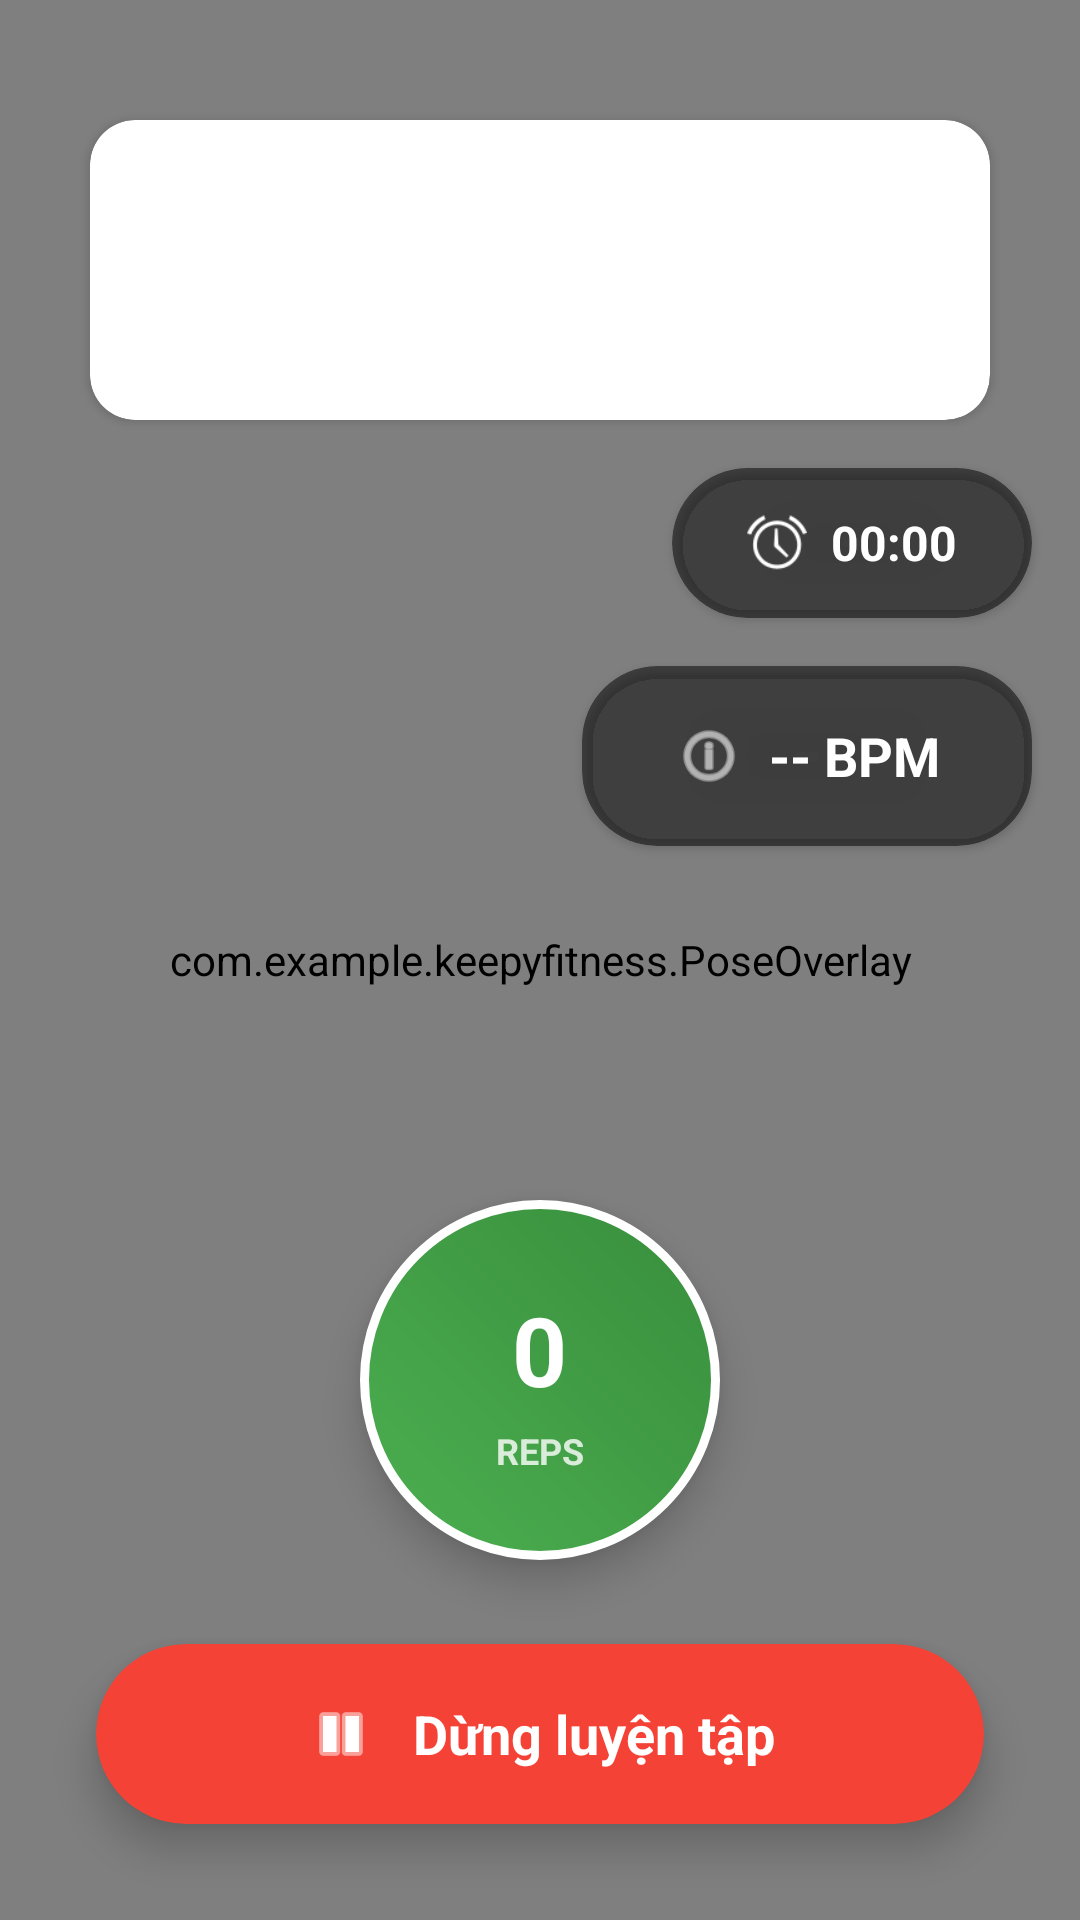

Named icons in this screenshot (1080 × 1920) and their bounding boxes, region(x1, y1, x2, y2):
info details: region(683, 730, 735, 782)
lock idle alarm: region(747, 515, 807, 570)
pause: region(319, 1712, 363, 1756)
